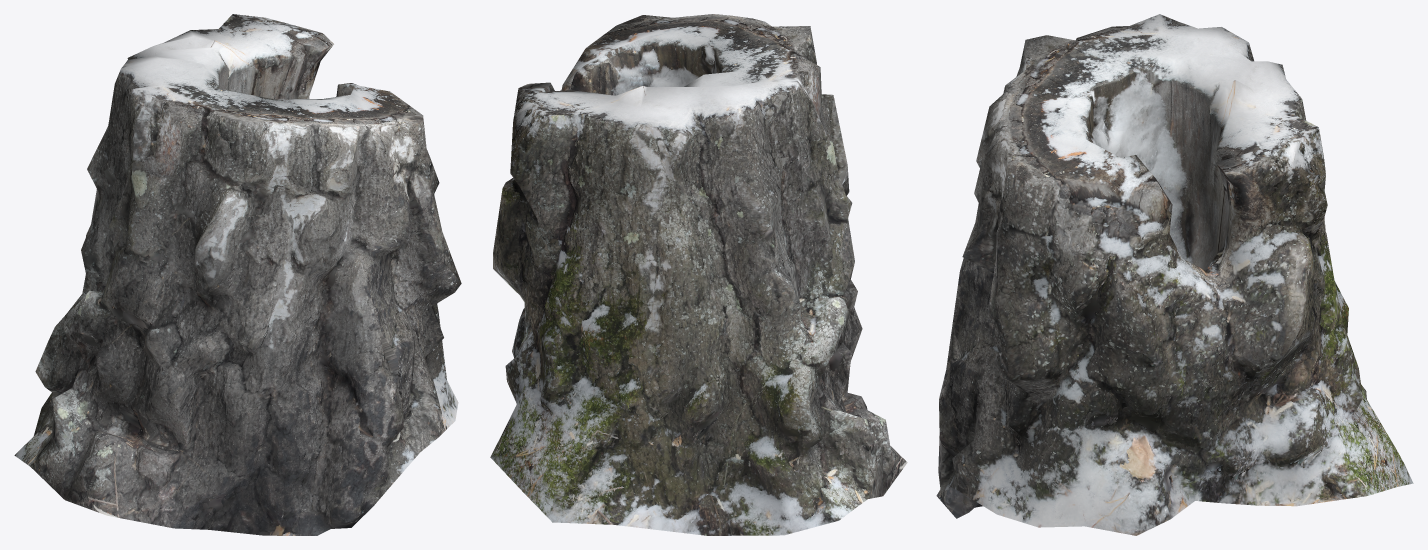
File: Forest_stump_2.FBX
3 views of the same model, side by side, from view 1: azimuth 30°, elevation 25°; view 2: azimuth 150°, elevation 25°; view 3: azimuth 270°, elevation 25° (orthographic). The views are drawn at different scales.
Parts seen in each view (by area): view 1: Forest_stump_2; view 2: Forest_stump_2; view 3: Forest_stump_2.
Boxes of the visible parts, x1,y1,x2,y2 form: Forest_stump_2: (14,14,461,535); Forest_stump_2: (490,14,907,535); Forest_stump_2: (936,14,1413,535).
Size of the model in its own units: 1.09 by 1.15 by 1.1.
1 material, 1 textured.
